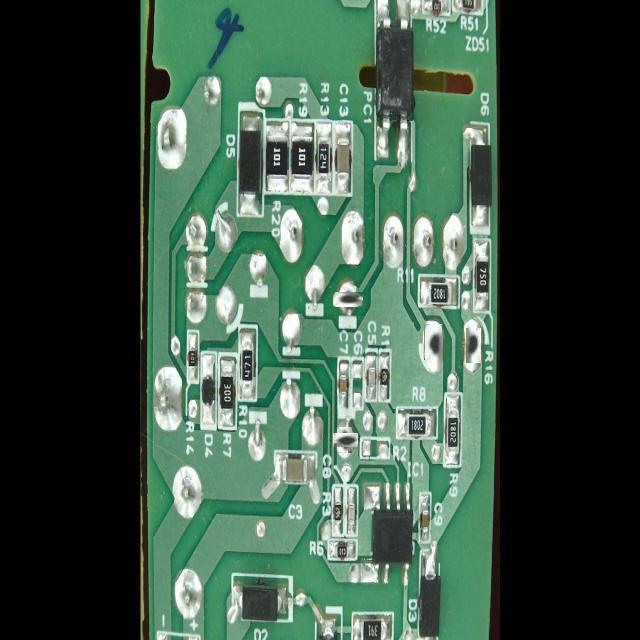damged: (424, 324, 442, 360), (466, 328, 481, 363), (337, 288, 359, 310), (335, 430, 355, 450)
